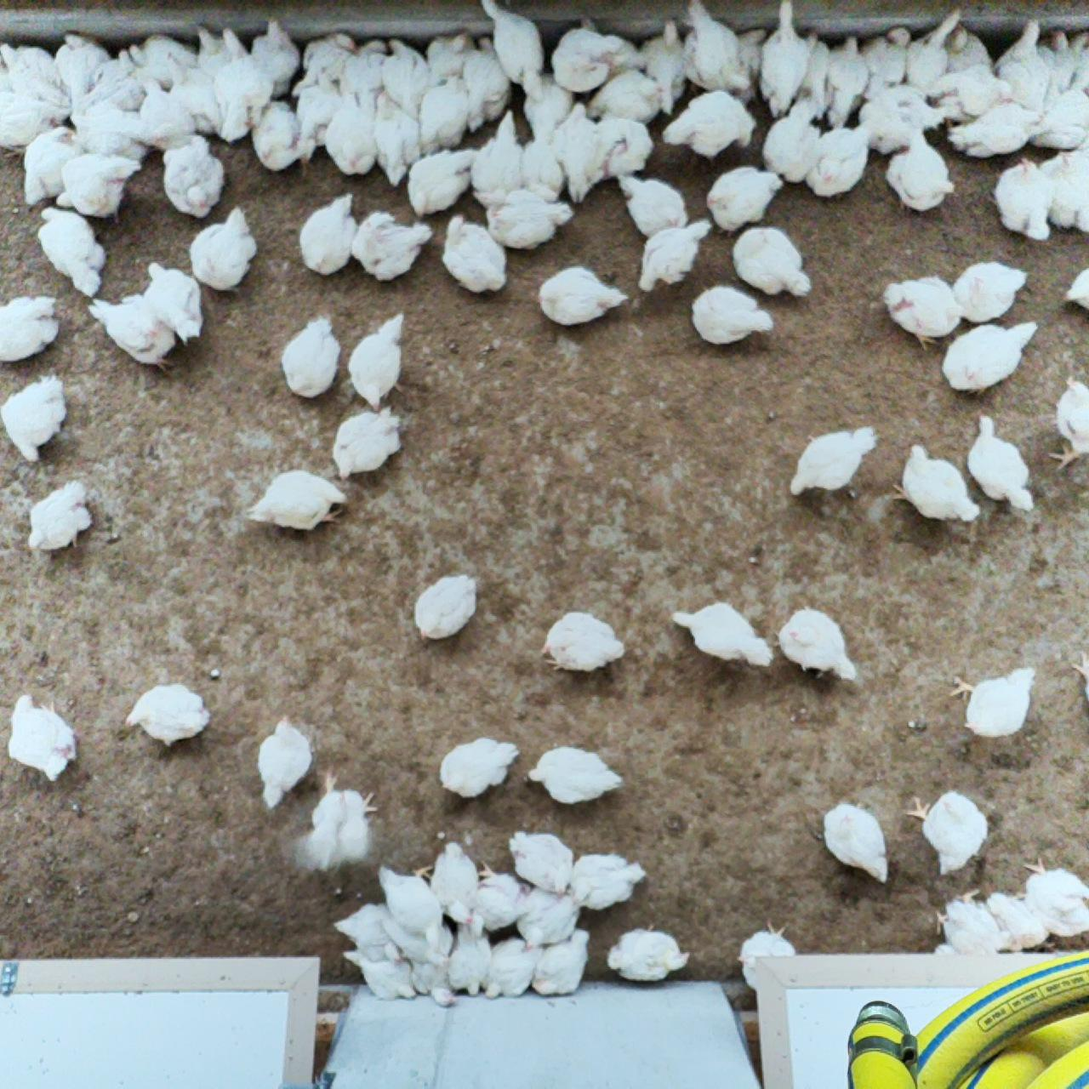chicken: (206, 29, 281, 139), (88, 292, 182, 379), (67, 86, 155, 172), (856, 76, 952, 151), (672, 599, 772, 671), (940, 321, 1041, 392), (38, 202, 108, 302), (968, 412, 1038, 512), (891, 443, 979, 522), (480, 0, 553, 93), (906, 792, 987, 875), (162, 48, 234, 141), (8, 691, 80, 784), (785, 423, 879, 494), (411, 836, 483, 928), (662, 91, 759, 159), (248, 93, 320, 184), (187, 205, 259, 295), (0, 32, 75, 118), (56, 152, 144, 225), (458, 110, 527, 203), (473, 188, 575, 250), (311, 774, 379, 867), (347, 312, 410, 412), (247, 467, 346, 530), (947, 667, 1036, 737), (774, 607, 857, 681), (885, 275, 968, 348), (532, 265, 630, 326), (634, 221, 717, 293), (680, 0, 744, 93), (735, 221, 813, 297), (706, 162, 784, 237), (0, 374, 68, 460), (351, 210, 434, 280), (74, 46, 158, 115), (379, 866, 448, 950), (938, 887, 1024, 954), (526, 746, 625, 804), (821, 799, 889, 883), (539, 608, 624, 675), (952, 103, 1048, 162), (131, 77, 202, 156), (1022, 856, 1089, 939), (331, 407, 406, 479), (144, 258, 206, 345), (888, 137, 958, 214), (441, 215, 509, 294), (164, 135, 227, 220), (465, 861, 532, 940), (761, 0, 807, 115), (22, 128, 86, 210), (557, 114, 611, 211), (808, 124, 876, 201), (128, 681, 207, 747), (379, 902, 453, 972), (764, 100, 825, 184), (435, 736, 519, 797), (0, 80, 70, 153), (277, 316, 340, 397), (577, 11, 653, 78), (259, 716, 314, 808), (407, 148, 479, 218), (127, 31, 209, 92), (692, 285, 774, 346), (993, 156, 1051, 242), (907, 7, 964, 94), (299, 192, 360, 273), (949, 262, 1031, 322), (991, 16, 1051, 98), (616, 173, 690, 239), (583, 67, 664, 127), (248, 16, 305, 101), (375, 90, 426, 185), (606, 927, 690, 984), (824, 31, 870, 131), (639, 19, 687, 114), (25, 482, 88, 554), (517, 67, 578, 141), (292, 28, 360, 94), (414, 574, 478, 644), (737, 921, 802, 989), (52, 27, 114, 98), (295, 67, 347, 151), (185, 20, 251, 86), (525, 932, 592, 997), (569, 854, 649, 908), (465, 37, 509, 135), (418, 78, 469, 162), (1041, 141, 1089, 230), (383, 35, 437, 114), (326, 96, 378, 178), (933, 72, 1013, 125), (859, 24, 916, 98), (1024, 86, 1089, 150), (791, 27, 835, 120), (0, 294, 61, 361), (592, 117, 656, 180), (518, 882, 581, 946), (510, 830, 573, 894), (337, 901, 402, 962), (401, 944, 462, 1009), (481, 939, 545, 999), (342, 951, 419, 1000), (449, 920, 496, 998), (550, 28, 609, 90), (1051, 376, 1089, 472), (344, 33, 396, 103), (989, 892, 1050, 948), (927, 915, 999, 959), (519, 137, 566, 202), (426, 27, 483, 80), (942, 22, 997, 76), (1038, 27, 1081, 95), (734, 28, 772, 88), (554, 101, 588, 160), (1066, 647, 1089, 705), (1072, 24, 1089, 99), (1062, 268, 1089, 310)
